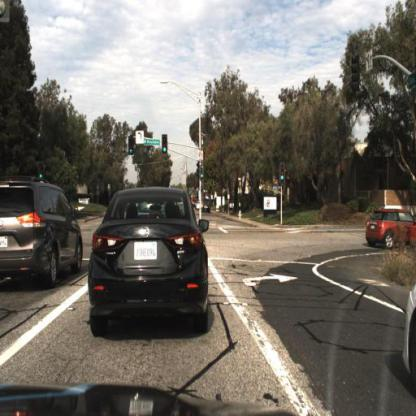car: (87, 187, 212, 338), (2, 176, 85, 292), (366, 207, 416, 254), (401, 268, 416, 393), (201, 200, 213, 219)
trafficLight-Green: (162, 131, 170, 155), (280, 162, 288, 183), (200, 162, 205, 181)
trafficLight-GreenLeft: (35, 163, 47, 184), (128, 130, 136, 157)
